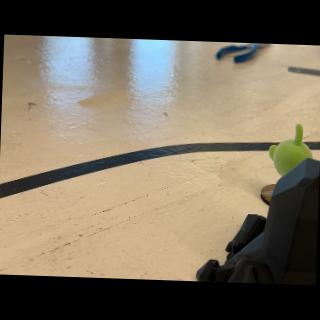teletubby: (269, 124, 313, 176)
